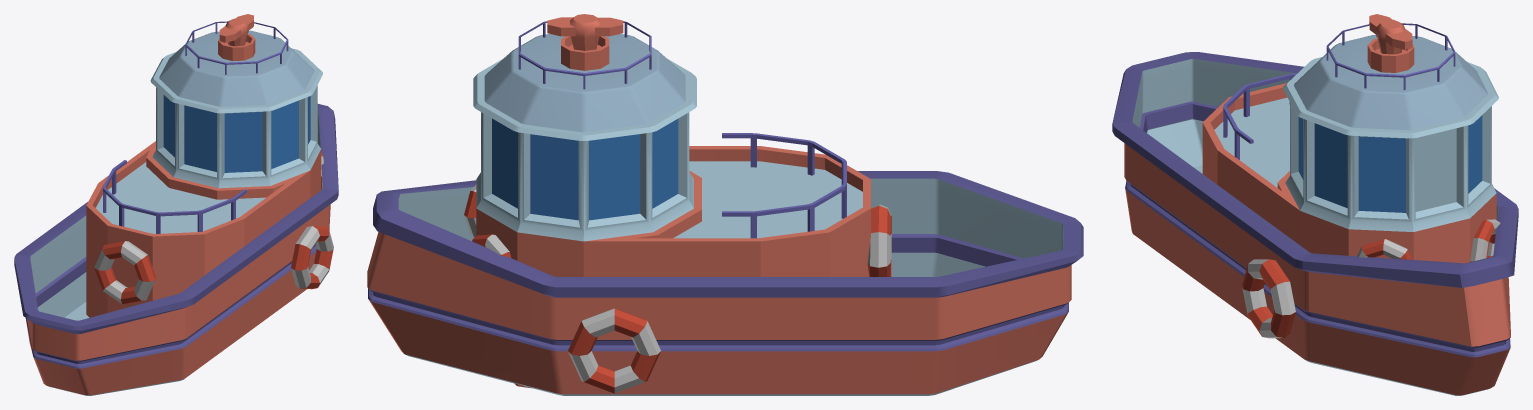
The model's file is ship.fbx.
The picture shows the model from 3 angles, left to right: view 1: azimuth 30°, elevation 25°; view 2: azimuth 150°, elevation 25°; view 3: azimuth 270°, elevation 25°; orthographic projection. The views are drawn at different scales.
Parts seen in each view (by area): view 1: polySurface2503; view 2: polySurface2503; view 3: polySurface2503.
Boxes of the visible parts, <box> form: polySurface2503: <box>14,14,338,395</box>; polySurface2503: <box>367,14,1083,395</box>; polySurface2503: <box>1112,14,1518,395</box>.
Bounding box in the file's own units: 766 × 430 × 514.
